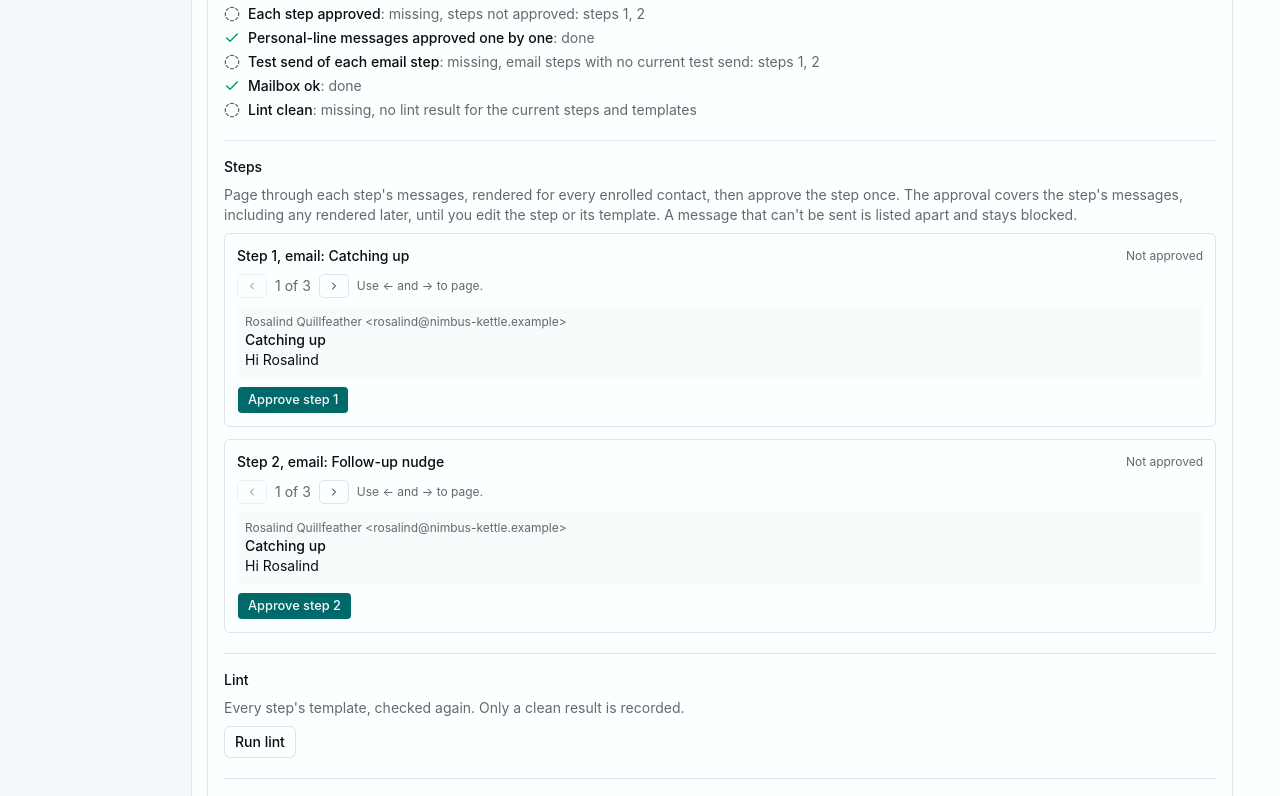
it: step review › shows a real refusal of an approval as an error
The image size is (1280, 796).
(page scrolled)
Click the button "Approve step 1" at point(293, 400), box 237,386 -> 349,414
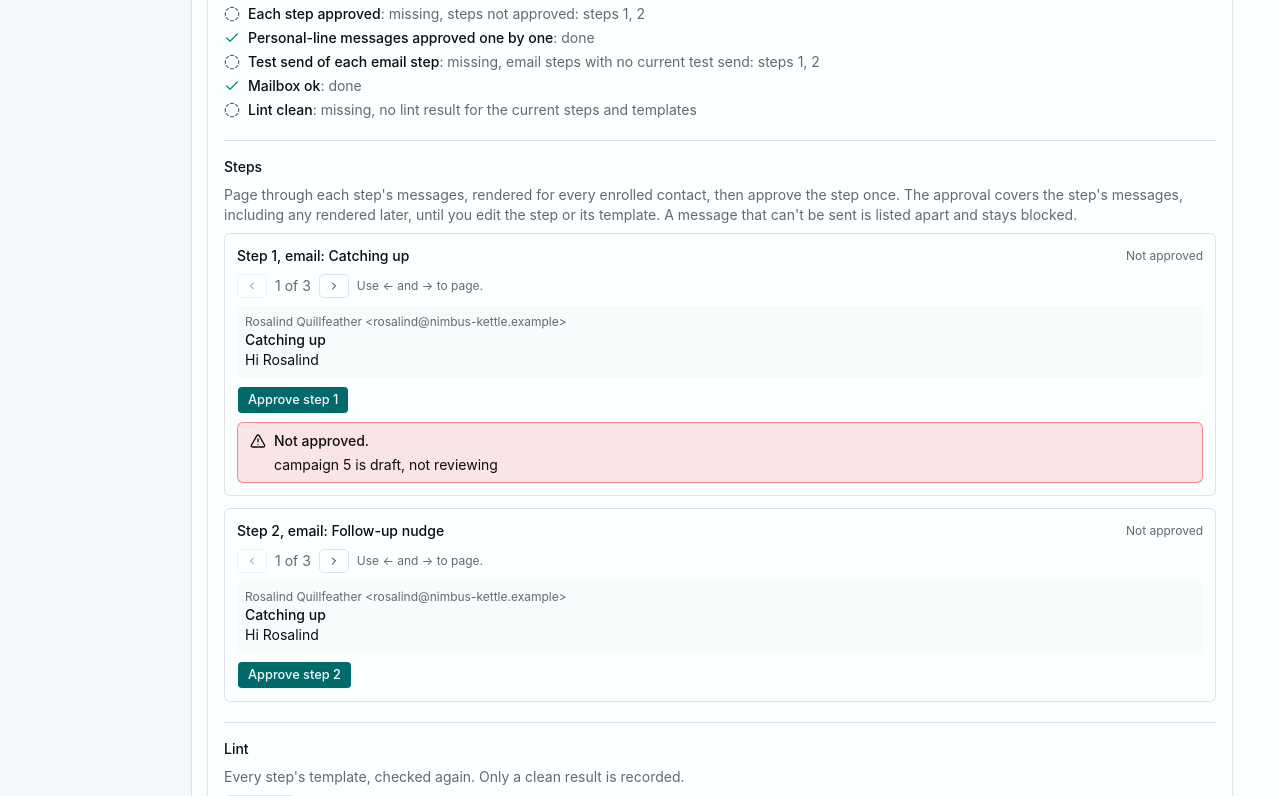
Check: the message shows "campaign 5 is draft, not reviewing", box 274,456 -> 498,473
